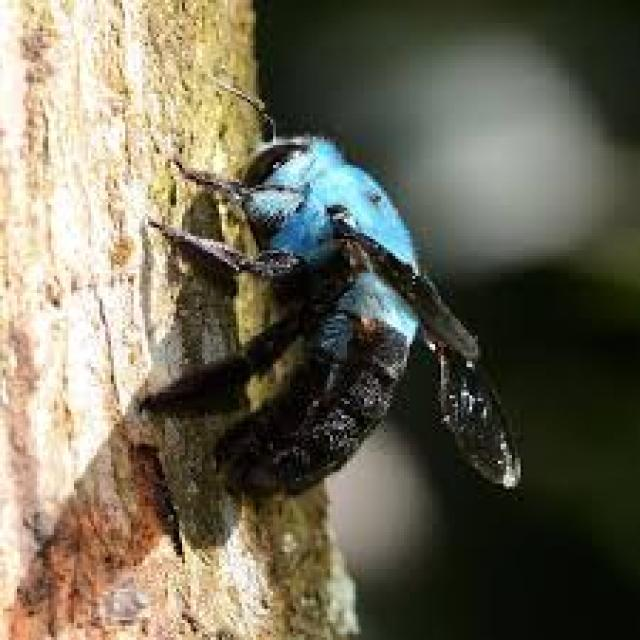Xylocopa: (149, 63, 542, 526)
